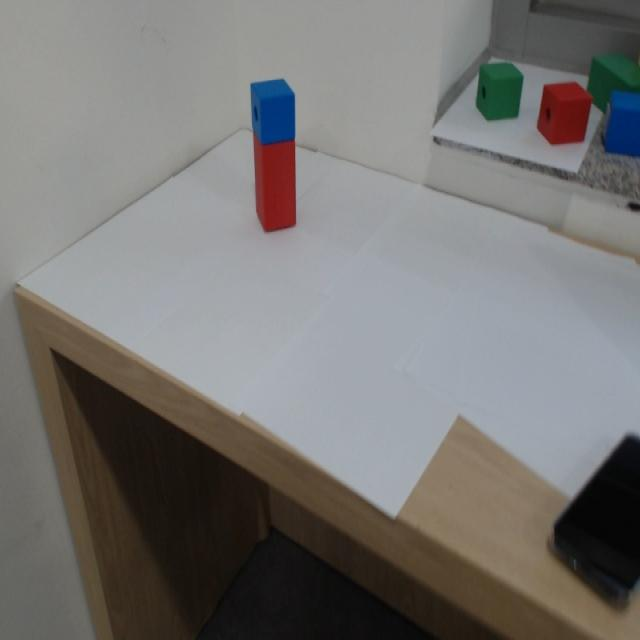cube: (241, 66, 305, 143)
